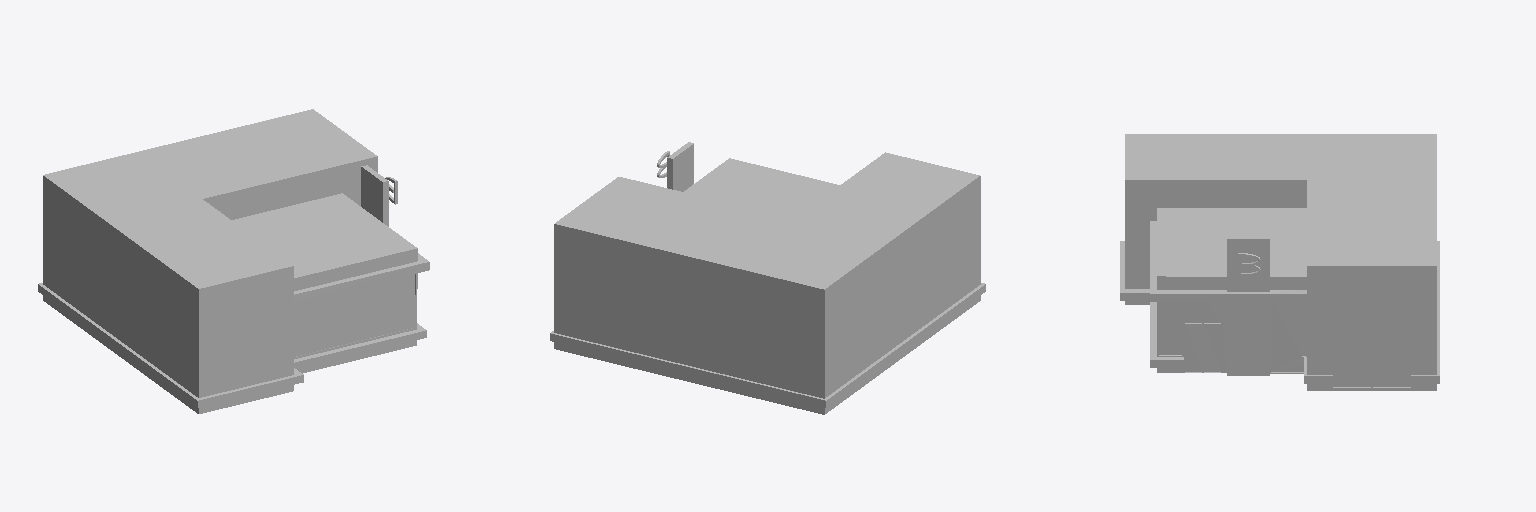
3 renders of one model, left to right at view 1: azimuth 30°, elevation 25°; view 2: azimuth 150°, elevation 25°; view 3: azimuth 270°, elevation 25°, orthographic.
Visible parts, largest first — view 1: Cube.001, red-build; view 2: Cube.001, red-build; view 3: Cube.001, red-build.
Boxes of the visible parts, x1,y1,x2,y2 form: Cube.001: [38, 109, 429, 413]; red-build: [361, 165, 388, 226]; Cube.001: [550, 152, 985, 414]; red-build: [667, 142, 693, 191]; Cube.001: [1120, 134, 1439, 390]; red-build: [1227, 236, 1269, 375].
Size of the model in its own units: 710 by 337 by 710.